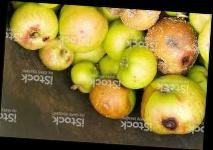rotten apple: (134, 77, 204, 137), (147, 20, 199, 77), (5, 4, 59, 52), (87, 78, 139, 118), (34, 41, 73, 72), (117, 9, 154, 31)
